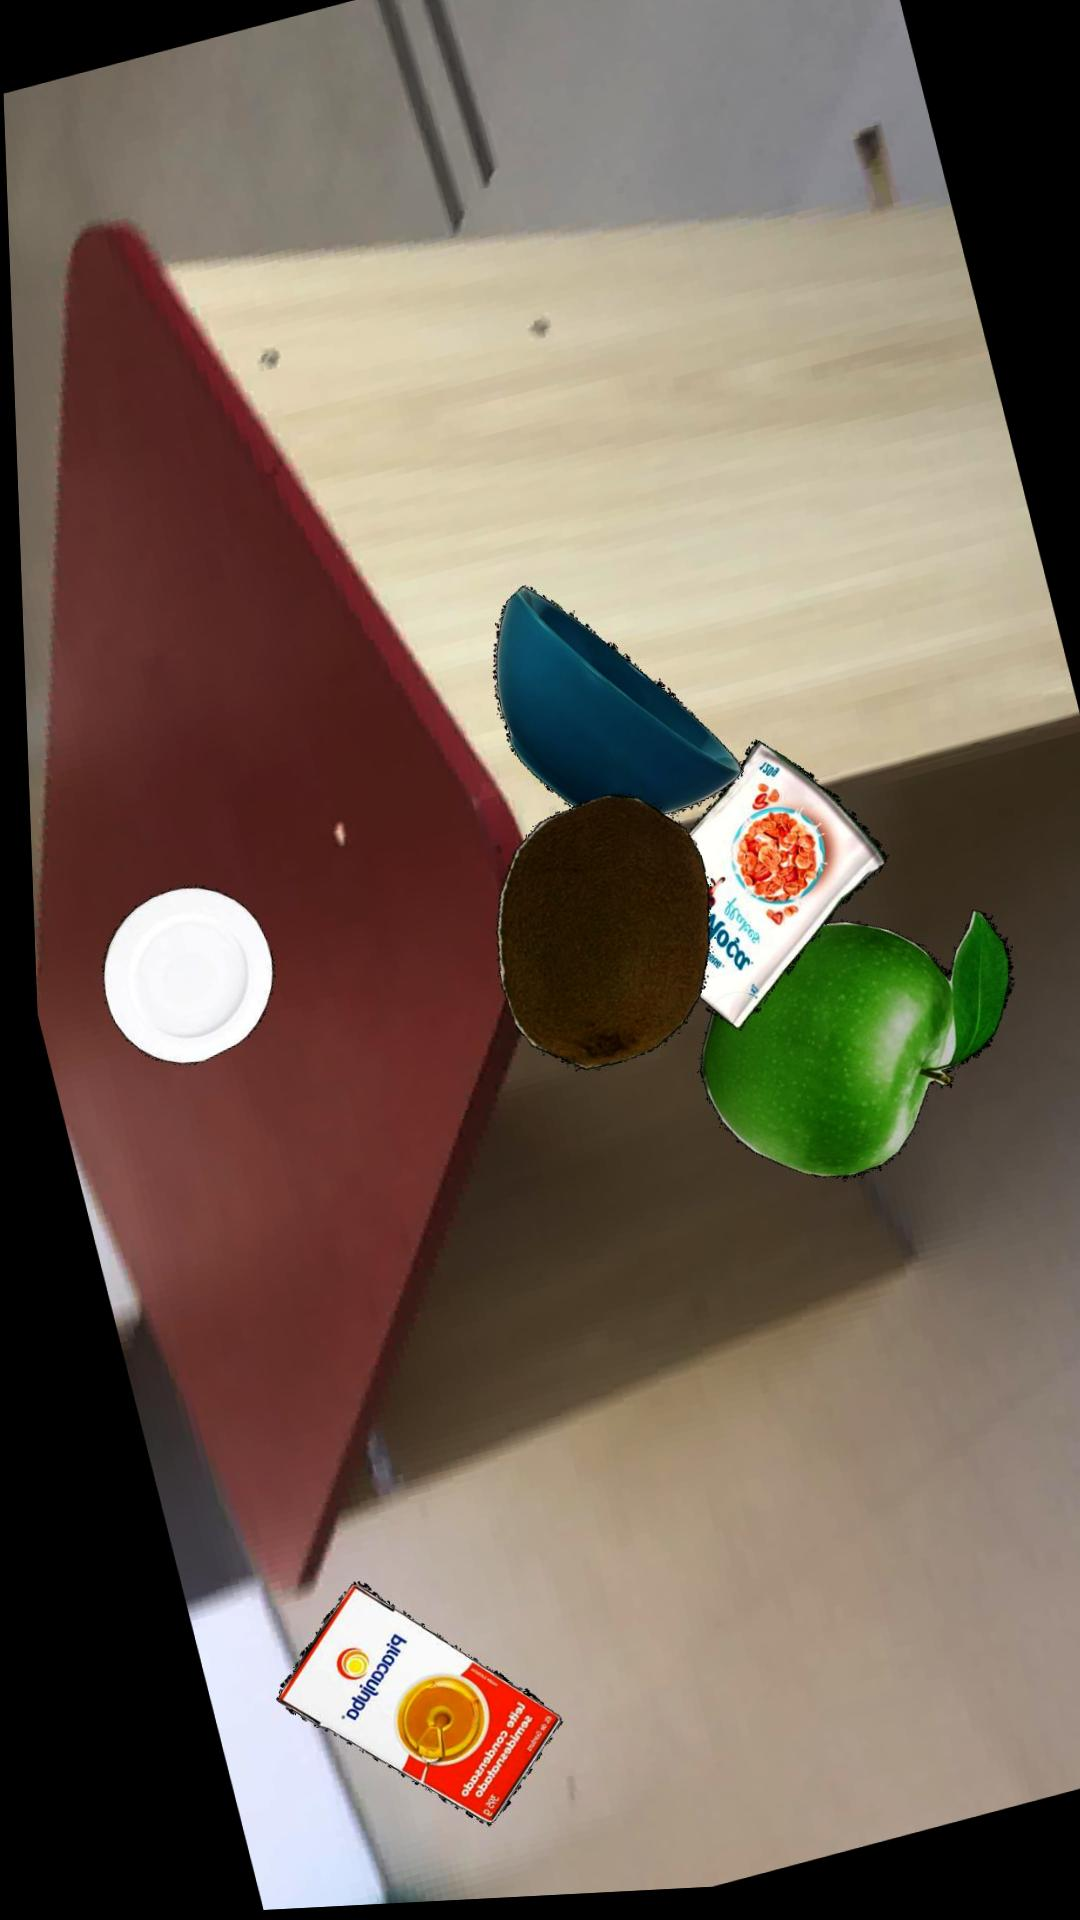bowl: (489, 592, 738, 823)
corn flakes: (683, 749, 884, 1038)
green apple: (692, 922, 1007, 1188)
kiwi: (489, 802, 705, 1077)
plate: (96, 890, 268, 1067)
